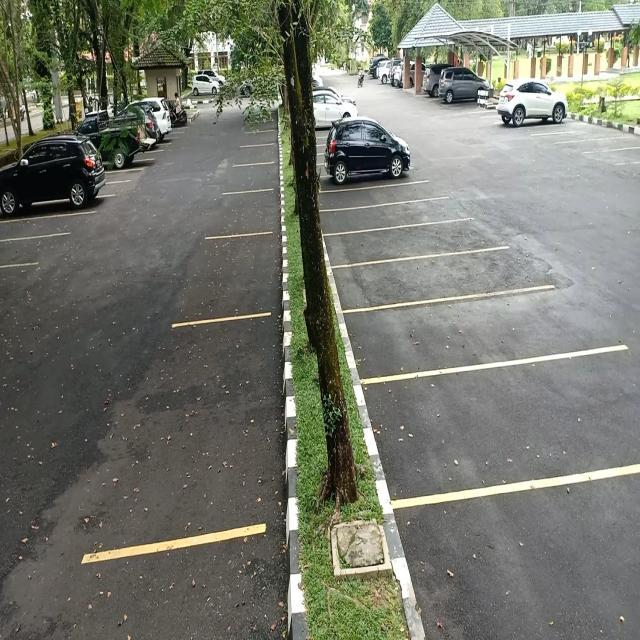empty: (105, 322, 283, 538), (397, 354, 635, 499), (362, 296, 550, 375), (341, 255, 507, 308), (192, 233, 280, 319), (331, 222, 484, 262), (324, 203, 444, 233), (221, 192, 278, 236), (324, 188, 427, 208), (0, 239, 50, 268), (234, 162, 278, 191)
occupied: (0, 167, 110, 215), (319, 143, 409, 190), (498, 95, 569, 128)
